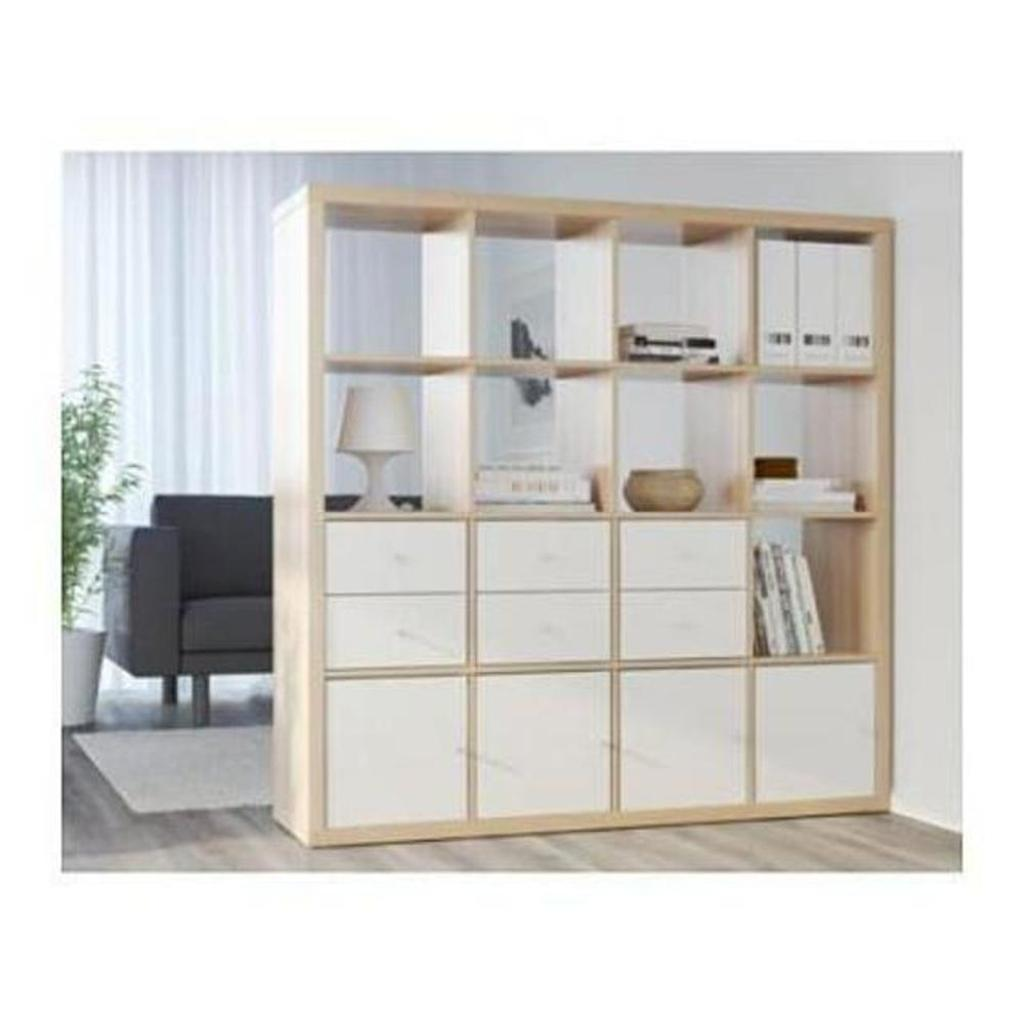lamp: (266, 180, 900, 854)
